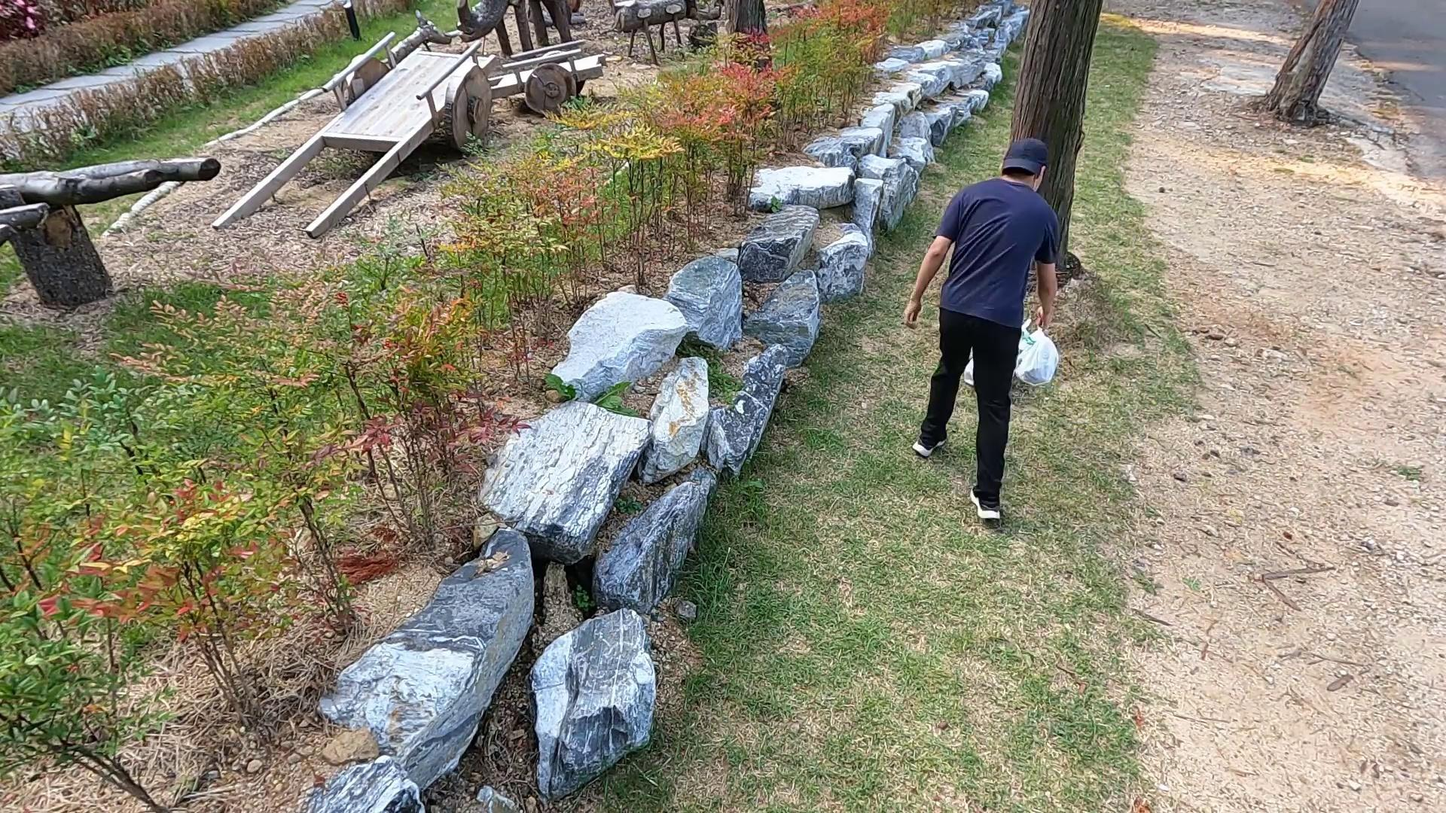person: (906, 136, 1068, 526)
trash: (1014, 323, 1060, 393)
